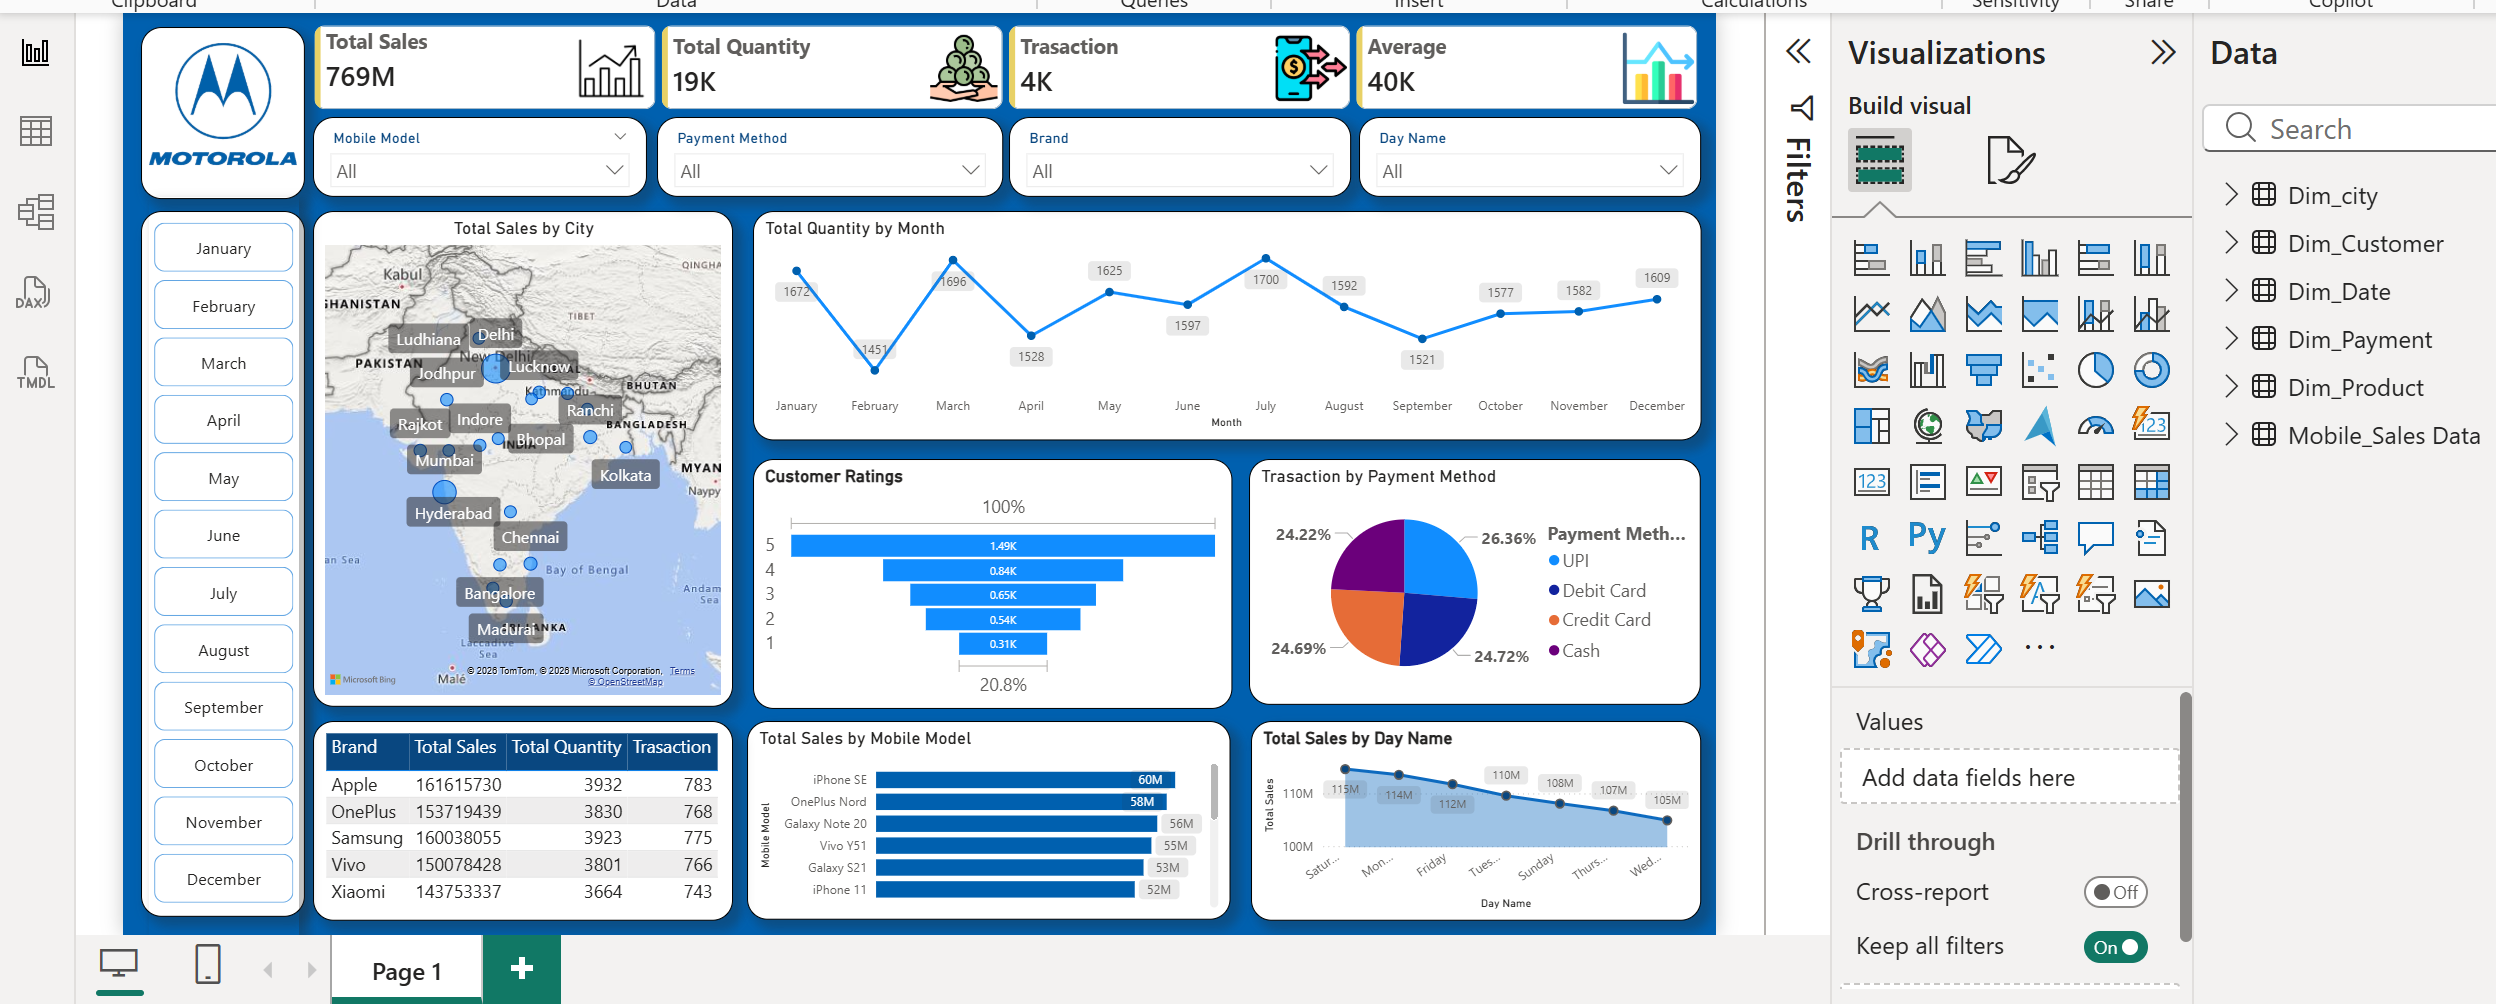

The dashboard page shown, as its layout file describes it:
{"tool":"powerbi","page":{"name":"Page 1","canvas":[1555,900],"ordinal":0},"visuals":[{"type":"shape","box":[18,14,160,168],"z":0},{"type":"image","box":[25.4,13.7,144.5,150.3],"z":1000},{"type":"shape","box":[17.6,193.3,160.1,689.2],"z":2000},{"type":"cardVisual","fields":{"Data":["Mobile_Sales Data.Total Sales","Mobile_Sales Data.Total Quantity","Mobile_Sales Data.Trasaction","Mobile_Sales Data.Average"]},"box":[170,0,1386,116],"z":4000},{"type":"lineChart","fields":{"Y":["Mobile_Sales Data.Total Quantity"],"Category":["Dim_Date.Date.Variation.Date Hierarchy.Month","Dim_Date.Date.Variation.Date Hierarchy.Day"]},"box":[614,194,926,224],"z":5000},{"type":"clusteredBarChart","fields":{"Category":["Dim_Product.Mobile Model"],"Y":["Mobile_Sales Data.Total Sales"]},"box":[610,692,472,194],"z":6000},{"type":"pieChart","fields":{"Y":["Mobile_Sales Data.Trasaction"],"Category":["Dim_Payment.Payment Method"]},"box":[1099.1,435.4,441.2,240.1],"z":7000},{"type":"funnel","title":"Customer Ratings ","fields":{"Category":["Mobile_Sales Data.Customer Ratings"],"Y":["CountNonNull(Mobile_Sales Data.Customer Ratings)"]},"box":[614,436,468,244],"z":8000},{"type":"map","fields":{"Category":["Dim_city.City"],"Size":["Mobile_Sales Data.Total Sales"]},"box":[185.5,193.3,410,484.2],"z":9000},{"type":"areaChart","fields":{"Category":["Dim_Date.Day Name"],"Y":["Mobile_Sales Data.Total Sales"]},"box":[1101.1,691.1,439.3,195.2],"z":10000},{"type":"tableEx","fields":{"Values":["Dim_Product.Brand","Mobile_Sales Data.Total Sales","Mobile_Sales Data.Total Quantity","Mobile_Sales Data.Trasaction"]},"box":[185.5,691.1,410,195.2],"z":11000},{"type":"slicer","fields":{"Values":["Dim_Product.Mobile Model"]},"box":[185.5,101.5,326,78.1],"z":12000},{"type":"slicer","fields":{"Values":["Dim_Payment.Payment Method"]},"box":[522,102,338,78],"z":13000},{"type":"slicer","fields":{"Values":["Dim_Product.Brand"]},"box":[864,102,334,78],"z":14000},{"type":"slicer","fields":{"Values":["Mobile_Sales Data.Day Name"]},"box":[1206,102,334,78],"z":15000},{"type":"listSlicer","fields":{"Values":["Dim_Date.Date.Variation.Date Hierarchy.Month"]},"box":[25.4,179.6,146.4,720.4],"z":15001}]}

Visuals, with their boxes on the page's 1555x900 design canvas (x1, y1, x2, y2). These are canvas units, not pixel positions in the 2496x1004 screenshot, which may show the page scaled, cropped or inside an application window:
shape: [18,14,178,182]
image: [25,14,170,164]
shape: [18,193,178,882]
cardVisual - Mobile_Sales Data.Total Sales x Mobile_Sales Data.Total Quantity: [170,0,1556,116]
lineChart - Mobile_Sales Data.Total Quantity x Dim_Date.Date.Variation.Date Hierarchy.Month: [614,194,1540,418]
clusteredBarChart - Dim_Product.Mobile Model x Mobile_Sales Data.Total Sales: [610,692,1082,886]
pieChart - Mobile_Sales Data.Trasaction x Dim_Payment.Payment Method: [1099,435,1540,676]
"Customer Ratings " funnel: [614,436,1082,680]
map - Dim_city.City x Mobile_Sales Data.Total Sales: [186,193,596,678]
areaChart - Dim_Date.Day Name x Mobile_Sales Data.Total Sales: [1101,691,1540,886]
tableEx - Dim_Product.Brand x Mobile_Sales Data.Total Sales: [186,691,596,886]
slicer - Dim_Product.Mobile Model: [186,102,512,180]
slicer - Dim_Payment.Payment Method: [522,102,860,180]
slicer - Dim_Product.Brand: [864,102,1198,180]
slicer - Mobile_Sales Data.Day Name: [1206,102,1540,180]
listSlicer - Dim_Date.Date.Variation.Date Hierarchy.Month: [25,180,172,900]
